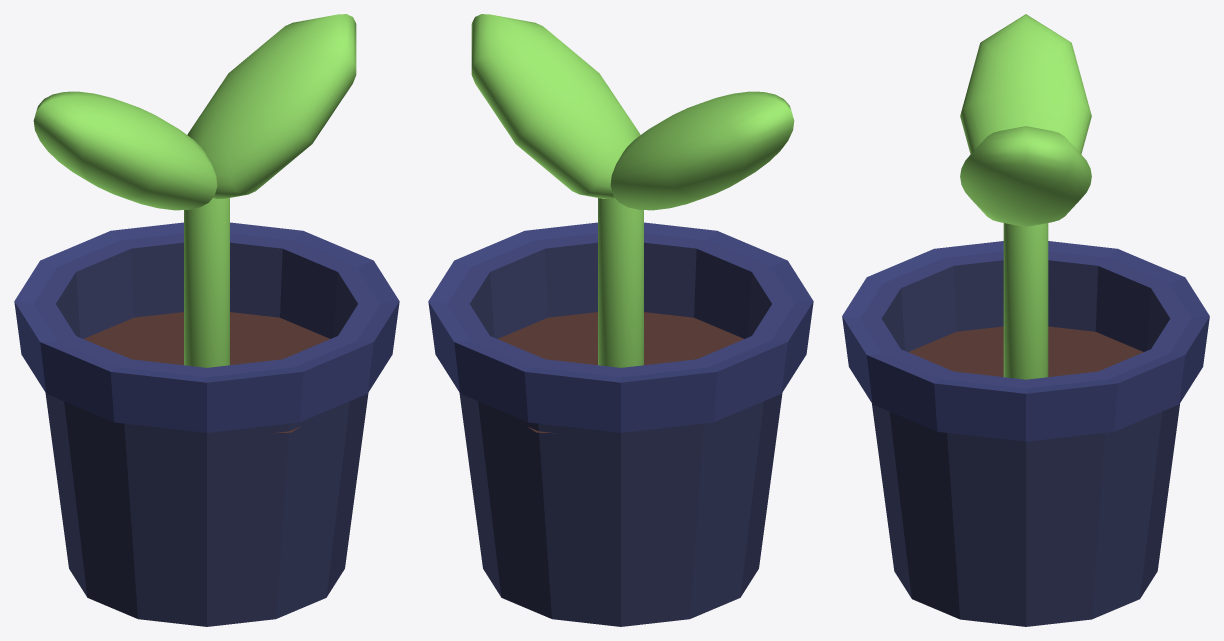
File: sprout.fbx
The picture shows the model from 3 angles, left to right: view 1: azimuth 30°, elevation 25°; view 2: azimuth 150°, elevation 25°; view 3: azimuth 270°, elevation 25°; orthographic projection. The views are drawn at different scales.
Parts seen in each view (by area): view 1: Cylinder, Sphere.001, Sphere.002, Cylinder.001, Plane; view 2: Cylinder, Sphere.001, Sphere.002, Cylinder.001, Plane; view 3: Cylinder, Sphere.002, Sphere.001, Cylinder.001, Plane.
Boxes of the visible parts, x1=… form: Cylinder: x1=14, y1=222, x2=399, y2=626; Sphere.001: x1=187, y1=14, x2=356, y2=198; Sphere.002: x1=33, y1=91, x2=217, y2=210; Cylinder.001: x1=184, y1=198, x2=229, y2=367; Plane: x1=84, y1=312, x2=329, y2=433; Cylinder: x1=428, y1=222, x2=813, y2=626; Sphere.001: x1=471, y1=14, x2=640, y2=198; Sphere.002: x1=610, y1=91, x2=794, y2=210; Cylinder.001: x1=598, y1=198, x2=643, y2=367; Plane: x1=498, y1=312, x2=743, y2=433; Cylinder: x1=842, y1=241, x2=1209, y2=626; Sphere.002: x1=960, y1=14, x2=1091, y2=154; Sphere.001: x1=960, y1=126, x2=1091, y2=226; Cylinder.001: x1=1003, y1=223, x2=1048, y2=379; Plane: x1=908, y1=326, x2=1143, y2=376.
Size of the model in its own units: 227 by 332 by 222.
